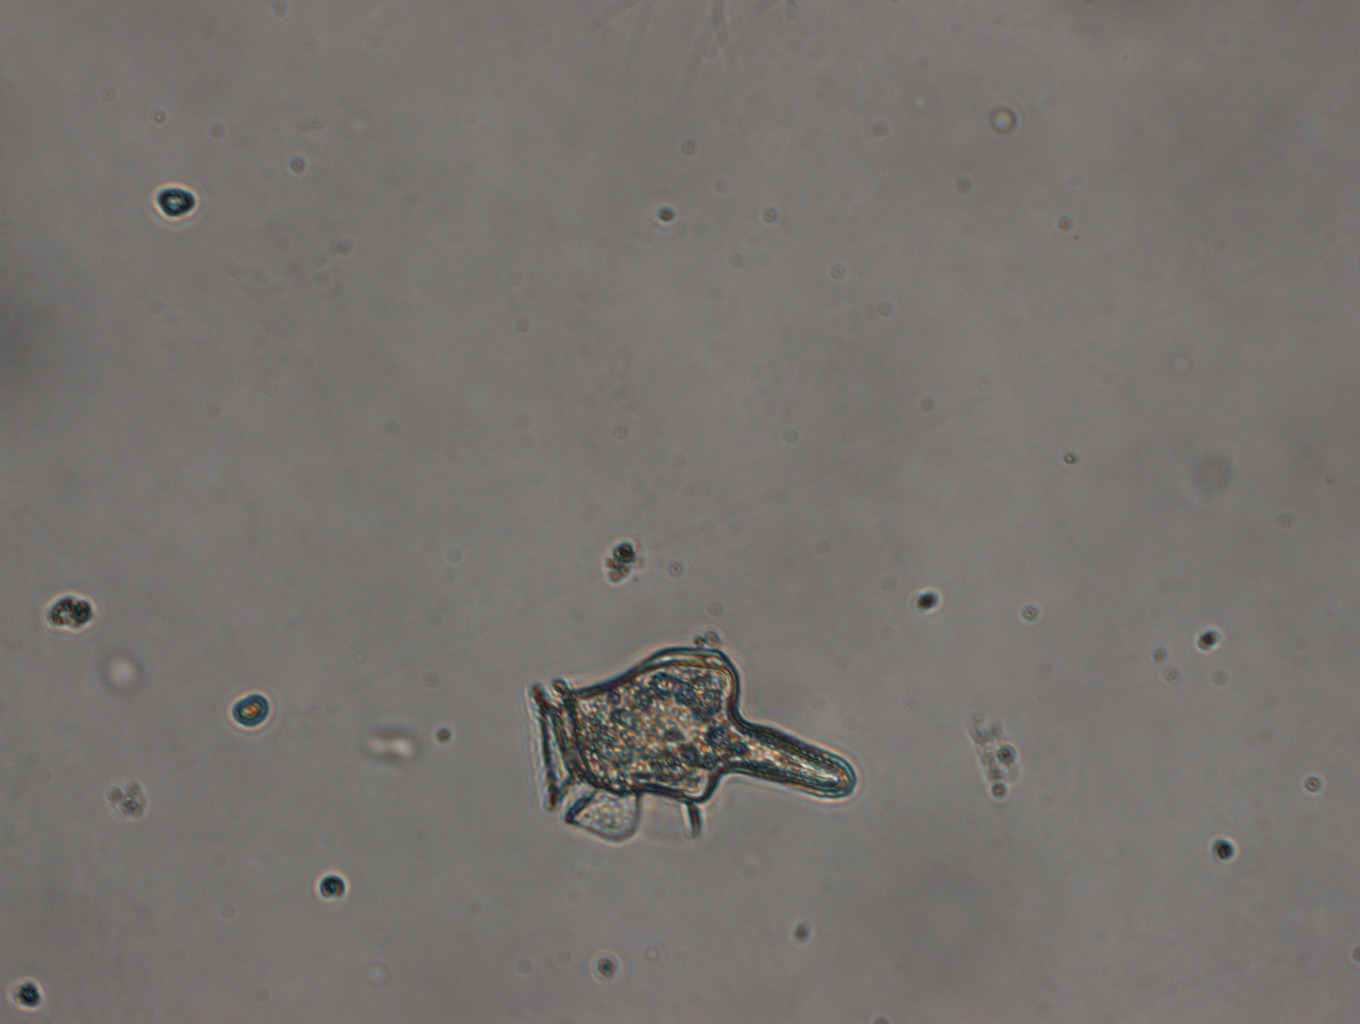dinophysis caudata: (522, 636, 860, 848)
